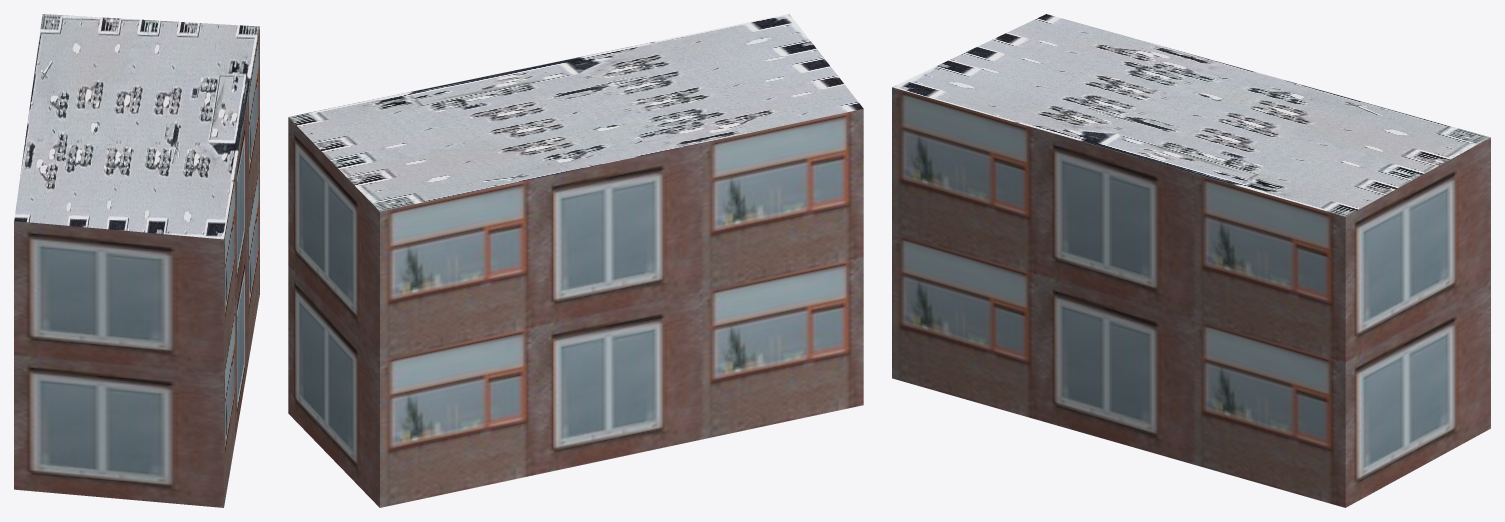
Rendered from ResTex__2457.fbx.
3 renders of one model, left to right at view 1: azimuth 30°, elevation 25°; view 2: azimuth 150°, elevation 25°; view 3: azimuth 270°, elevation 25°, orthographic. The views are drawn at different scales.
Visible parts, largest first — view 1: CityEngineMaterial_19_m, CityEngineMaterial_15_m; view 2: CityEngineMaterial_19_m, CityEngineMaterial_15_m; view 3: CityEngineMaterial_19_m, CityEngineMaterial_15_m.
Part boxes in pixels (x1,y1,x2,y2): CityEngineMaterial_19_m: (14, 27, 259, 507); CityEngineMaterial_15_m: (14, 14, 259, 239); CityEngineMaterial_19_m: (288, 109, 863, 507); CityEngineMaterial_15_m: (288, 14, 863, 211); CityEngineMaterial_19_m: (892, 87, 1490, 507); CityEngineMaterial_15_m: (892, 14, 1490, 216).
Bounding box in the file's own units: 8.97 × 6 × 11.19.
2 materials, 2 textured.
